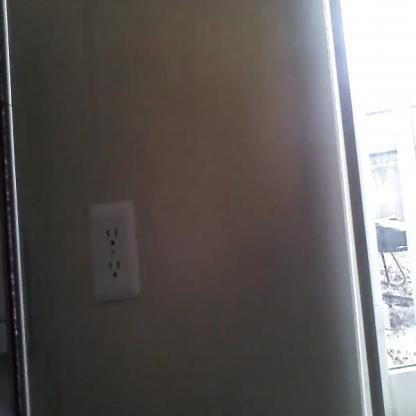OUTLET: (87, 201, 142, 302)
